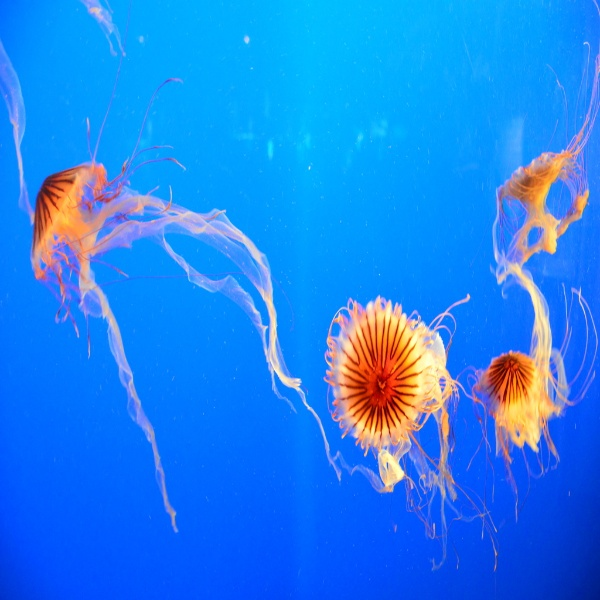Jellyfish: (0, 0, 342, 536), (321, 36, 599, 571)
